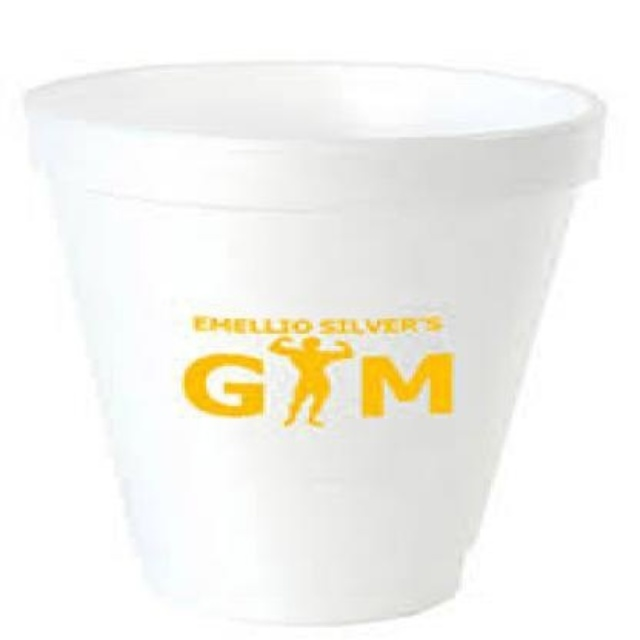trash: (26, 63, 602, 622)
